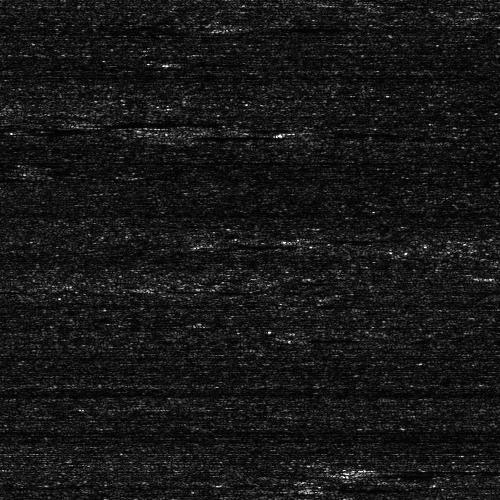object: (233, 122, 358, 139), (243, 231, 348, 242), (303, 466, 386, 475), (48, 117, 121, 126), (210, 23, 283, 30), (280, 485, 343, 492), (166, 134, 219, 139), (156, 59, 197, 62)
shadow: (296, 122, 400, 139), (296, 231, 400, 242), (345, 466, 450, 475), (84, 117, 180, 126), (247, 23, 348, 30), (312, 485, 364, 492), (193, 134, 243, 139), (177, 59, 226, 62), (0, 174, 24, 179)
